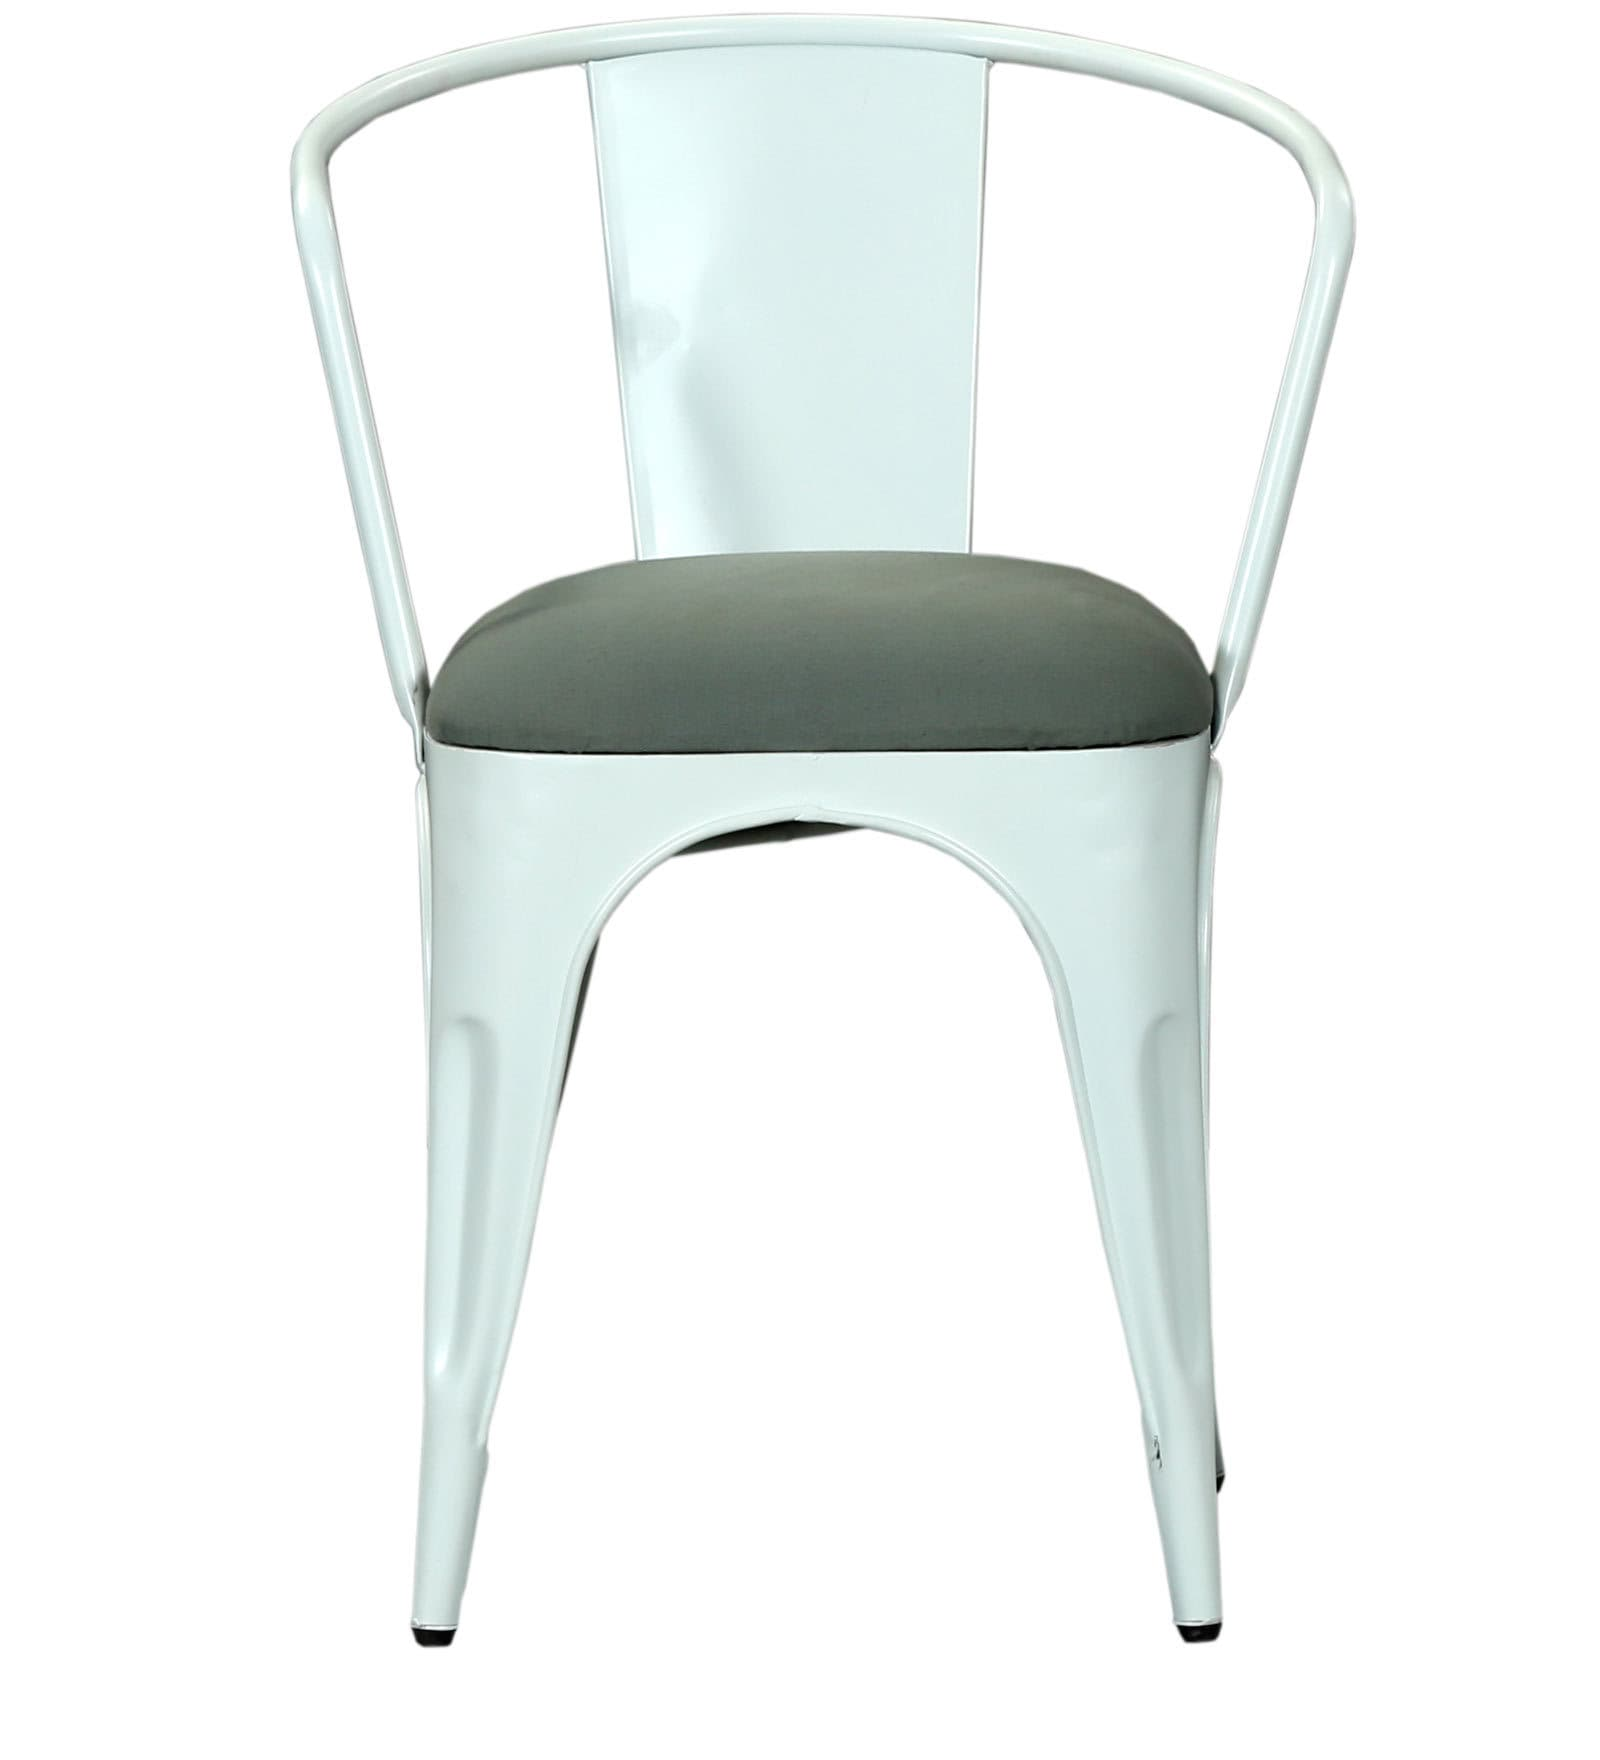Danlou Metal Chair with Cushion in White Colour by Bohemiana: (265, 23, 1362, 1712)
